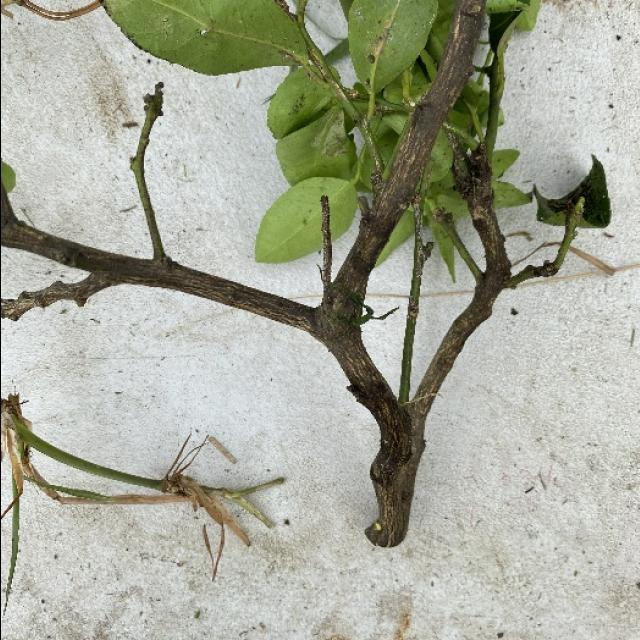organik: (0, 0, 601, 512), (0, 430, 288, 546), (100, 0, 320, 84), (250, 169, 362, 267), (334, 0, 437, 100), (526, 160, 614, 236)
